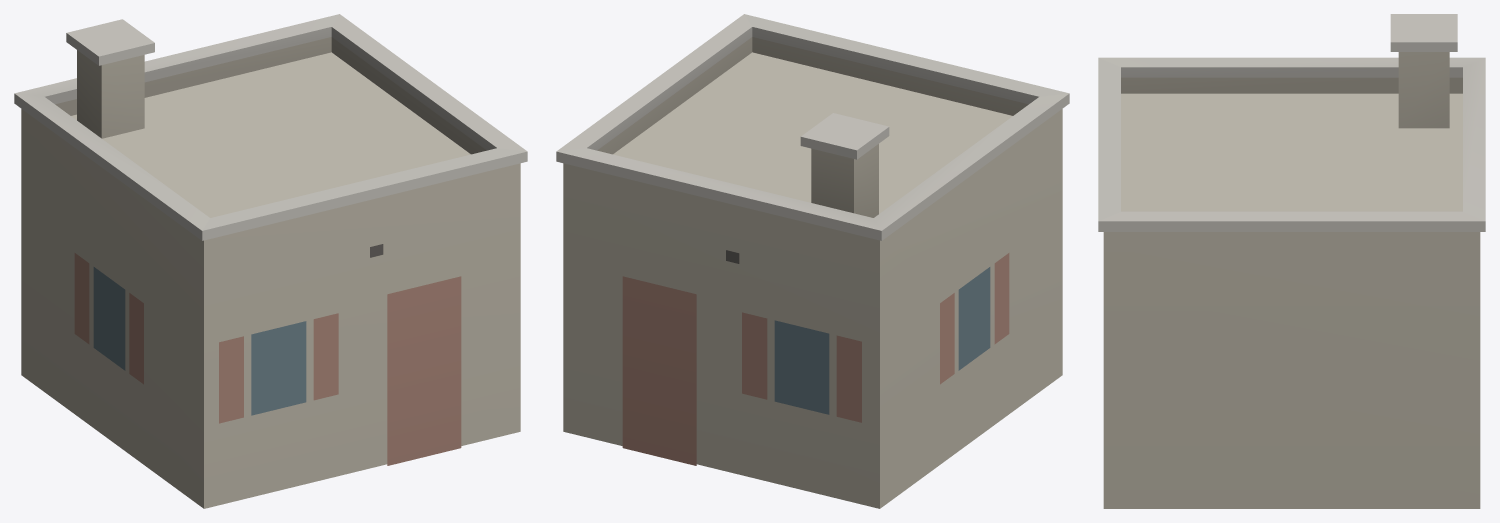
3 renders of one model, left to right at view 1: azimuth 30°, elevation 25°; view 2: azimuth 150°, elevation 25°; view 3: azimuth 270°, elevation 25°, orthographic. The views are drawn at different scales.
Bounding box in the file's own units: 4.4 × 4.42 × 4.4.
